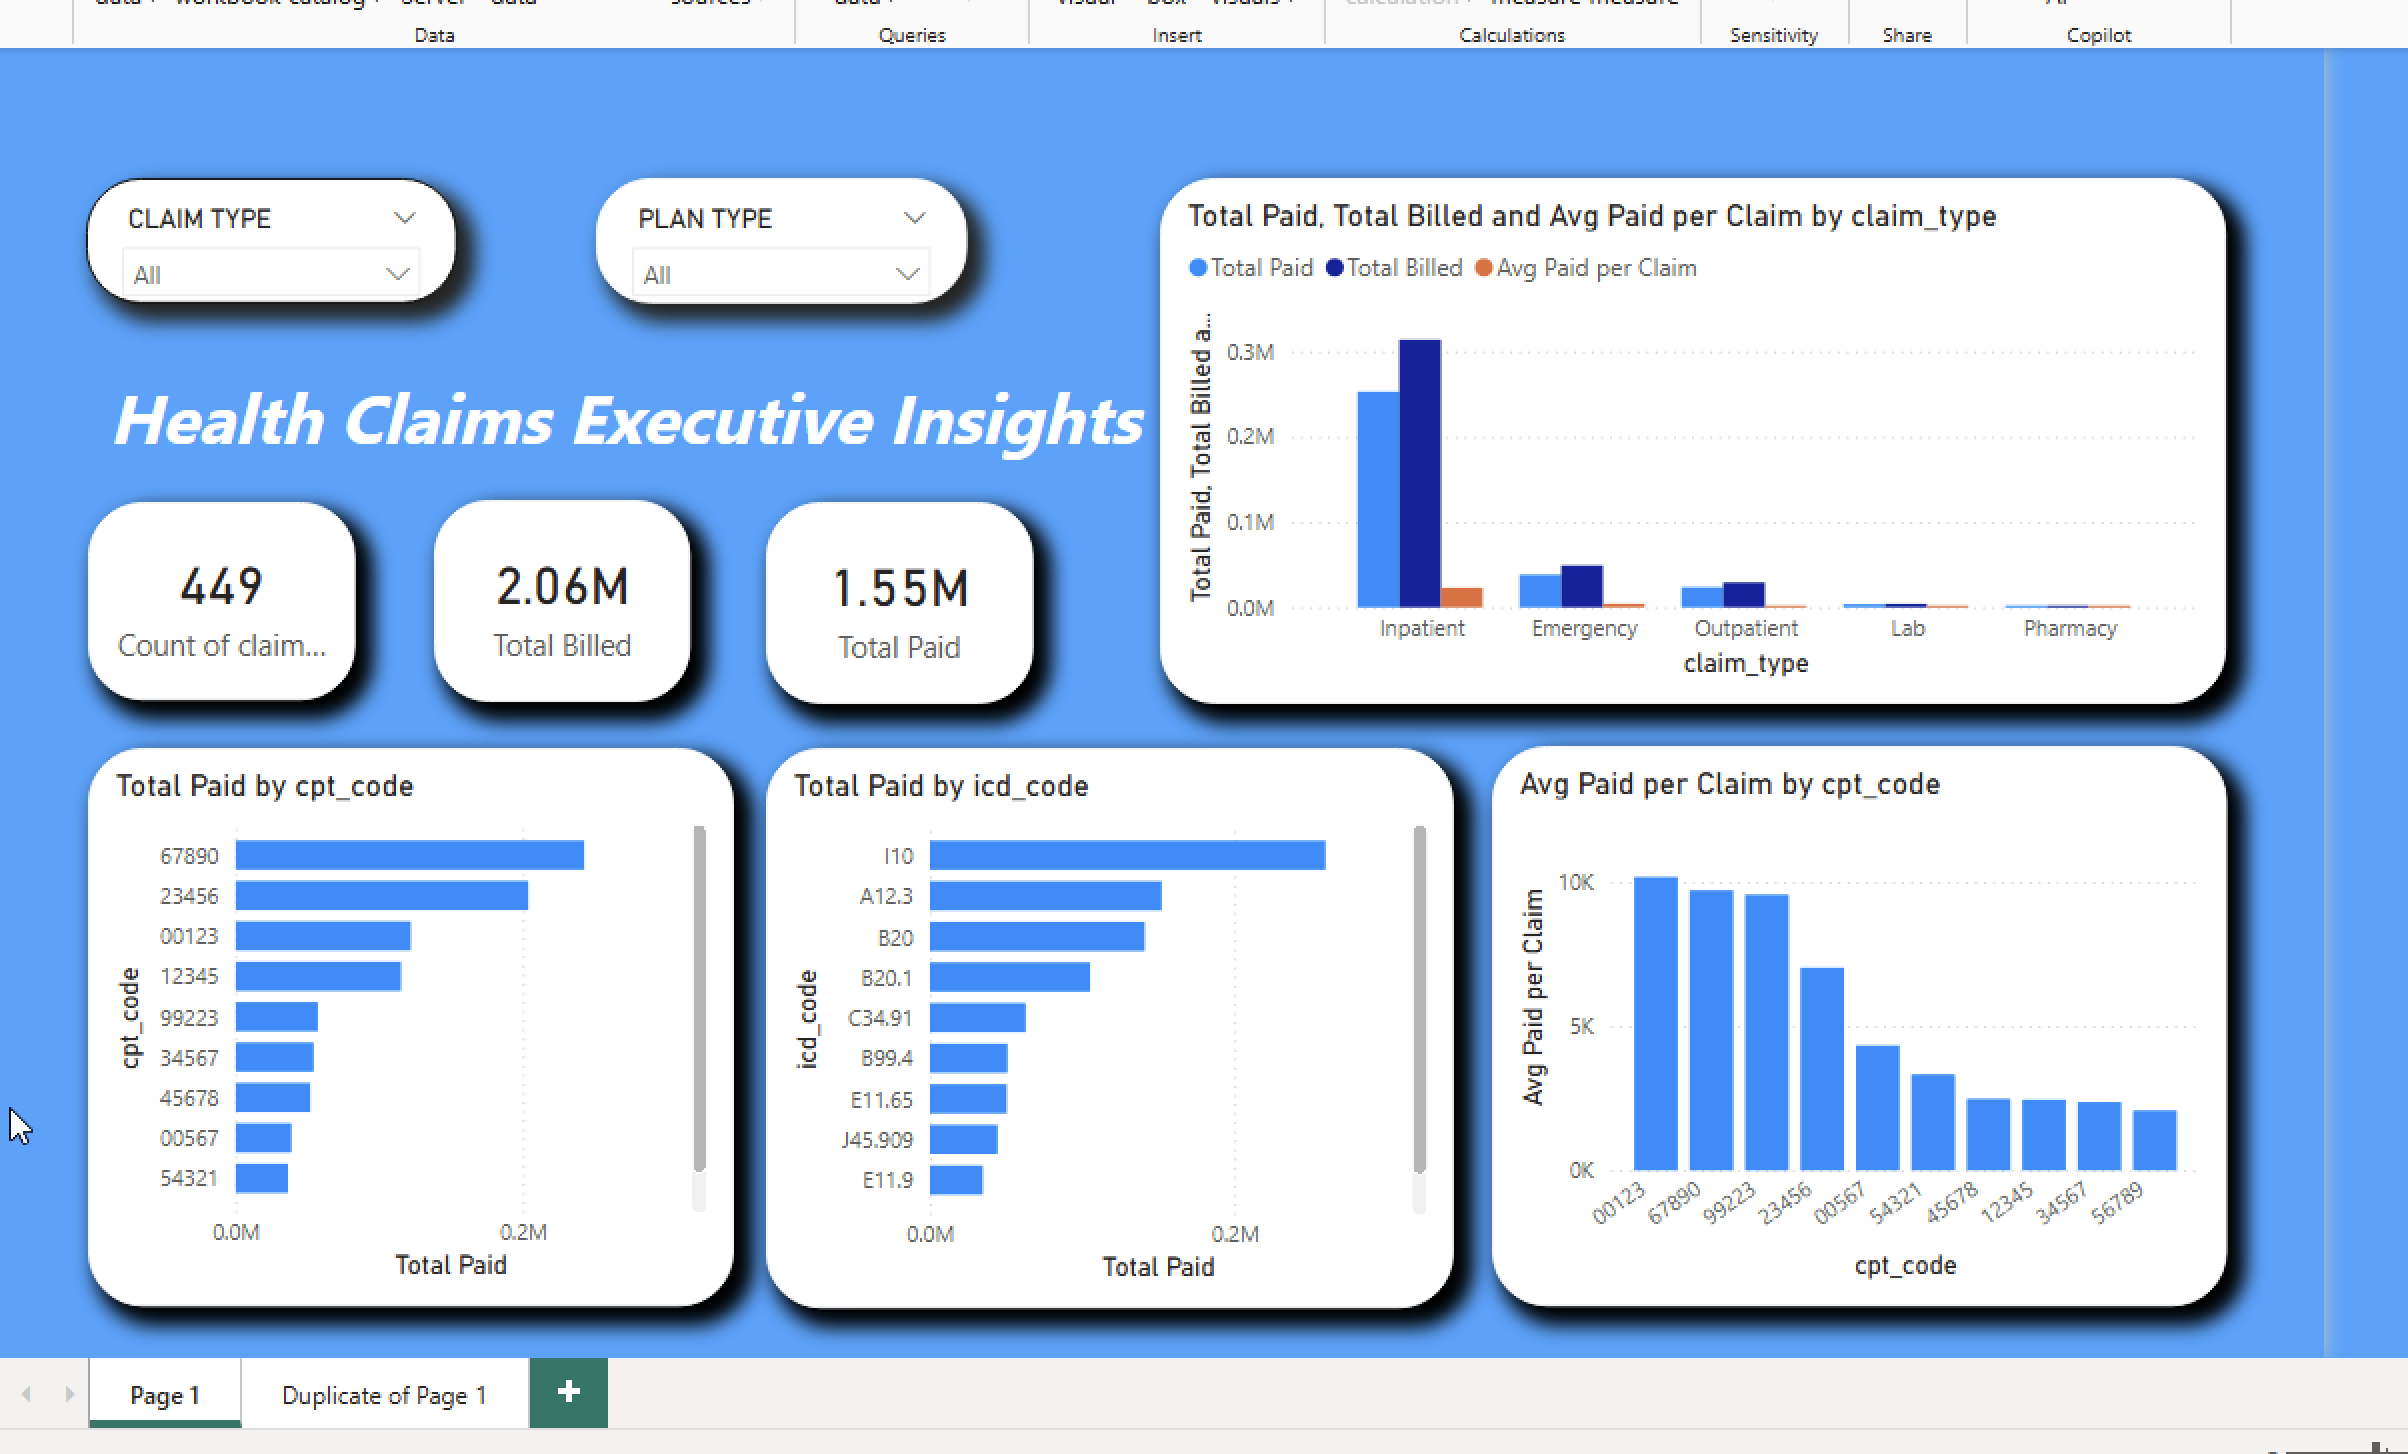

What the dashboard file says about the page in this screenshot:
{"tool":"powerbi","page":{"name":"OVERVIEW","canvas":[1280,720],"ordinal":0},"visuals":[{"type":"card","title":"Total Billed","fields":{"Values":["claims.Total Billed"]},"box":[240.2,247.6,148.5,111.4],"z":0},{"type":"card","title":"Total Paid","fields":{"Values":["claims.Total Paid"]},"box":[422.9,249.3,146.9,111.3],"z":1000},{"type":"card","title":"Count of claims","fields":{"Values":["Count(claims.claim_id)"]},"box":[49.5,248.8,147.3,108.9],"z":2000},{"type":"barChart","title":"Top Cost-Driving Procedures (CPT Codes)","fields":{"Y":["claims.Total Paid"],"Category":["claims.cpt_code"]},"box":[50.1,385,355,307.1],"z":3000},{"type":"barChart","title":"High-Cost Diagnoses (ICD Codes)","fields":{"Y":["claims.Total Paid"],"Category":["claims.icd_code"]},"box":[422.9,385,378.4,308.3],"z":4000},{"type":"clusteredColumnChart","title":"Average Cost per Procedure","fields":{"Category":["claims.cpt_code"],"Y":["claims.Avg Paid per Claim"]},"box":[822.4,383.9,404,308.3],"z":5000},{"type":"clusteredColumnChart","title":"Paid vs Billed Amounts and Average Cost per Claim","fields":{"Category":["claims.claim_type"],"Y":["claims.Total Paid","claims.Total Billed","claims.Avg Paid per Claim"]},"box":[639.9,71.2,586.5,289.3],"z":6000},{"type":"textbox","box":[49.5,0,1177.3,71.8],"z":7000},{"type":"slicer","fields":{"Values":["claims.claim_type"]},"box":[49.5,71.8,240.2,69.3],"z":8000},{"type":"slicer","fields":{"Values":["members.plan_type"]},"box":[299.6,71.8,234,69.3],"z":9000},{"type":"pageNavigator","box":[49.5,165.9,480.3,49.5],"z":10000}]}

Visuals, with their boxes on the page's 1280x720 design canvas (x1, y1, x2, y2). These are canvas units, not pixel positions in the 2408x1454 screenshot, which may show the page scaled, cropped or inside an application window:
"Total Billed" card: x1=240 y1=248 x2=389 y2=359
"Total Paid" card: x1=423 y1=249 x2=570 y2=361
"Count of claims" card: x1=50 y1=249 x2=197 y2=358
"Top Cost-Driving Procedures (CPT Codes)" barChart: x1=50 y1=385 x2=405 y2=692
"High-Cost Diagnoses (ICD Codes)" barChart: x1=423 y1=385 x2=801 y2=693
"Average Cost per Procedure" clusteredColumnChart: x1=822 y1=384 x2=1226 y2=692
"Paid vs Billed Amounts and Average Cost per Claim" clusteredColumnChart: x1=640 y1=71 x2=1226 y2=360
textbox: x1=50 y1=0 x2=1227 y2=72
slicer - claims.claim_type: x1=50 y1=72 x2=290 y2=141
slicer - members.plan_type: x1=300 y1=72 x2=534 y2=141
pageNavigator: x1=50 y1=166 x2=530 y2=215
